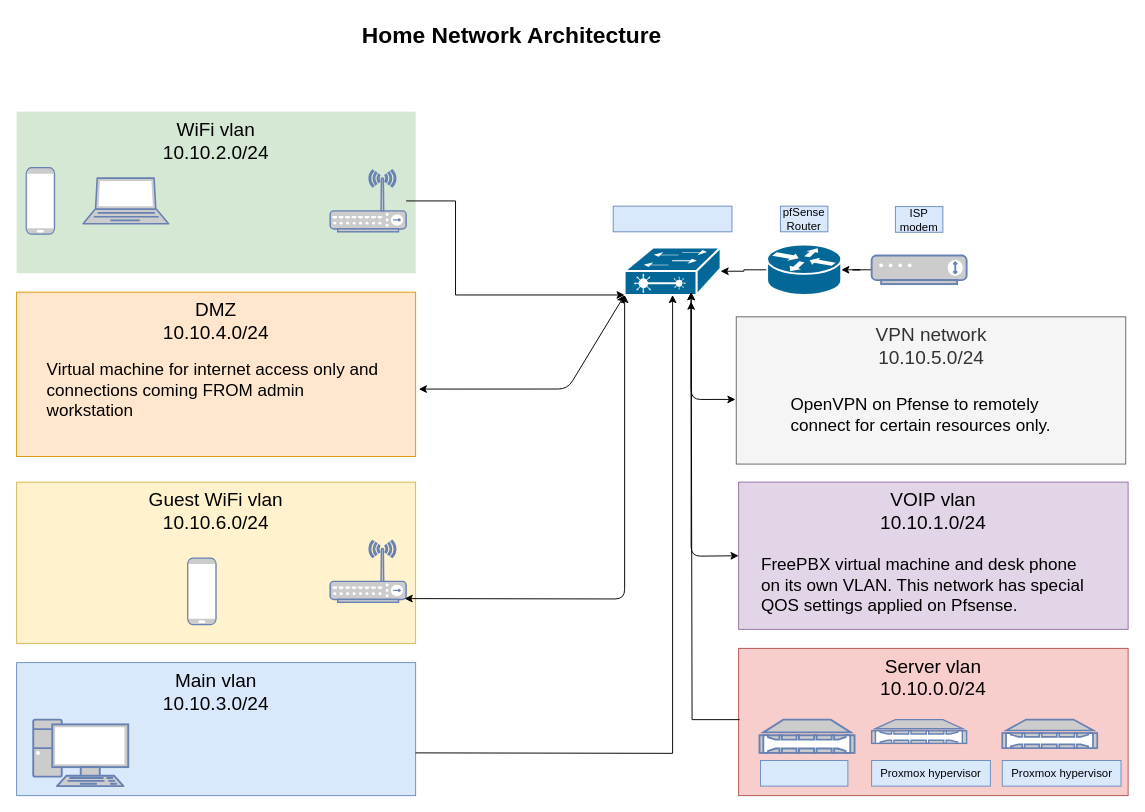
The diagram is 1145 pixels wide and 812 high, and some of its shapes have lost their labels. Here are the shapes that lost their labels. From the top down, the centre of each, then its label:
At point (672, 218): "HP procurve 1810-24G switch".
At point (804, 773): "FreeNAS host".
